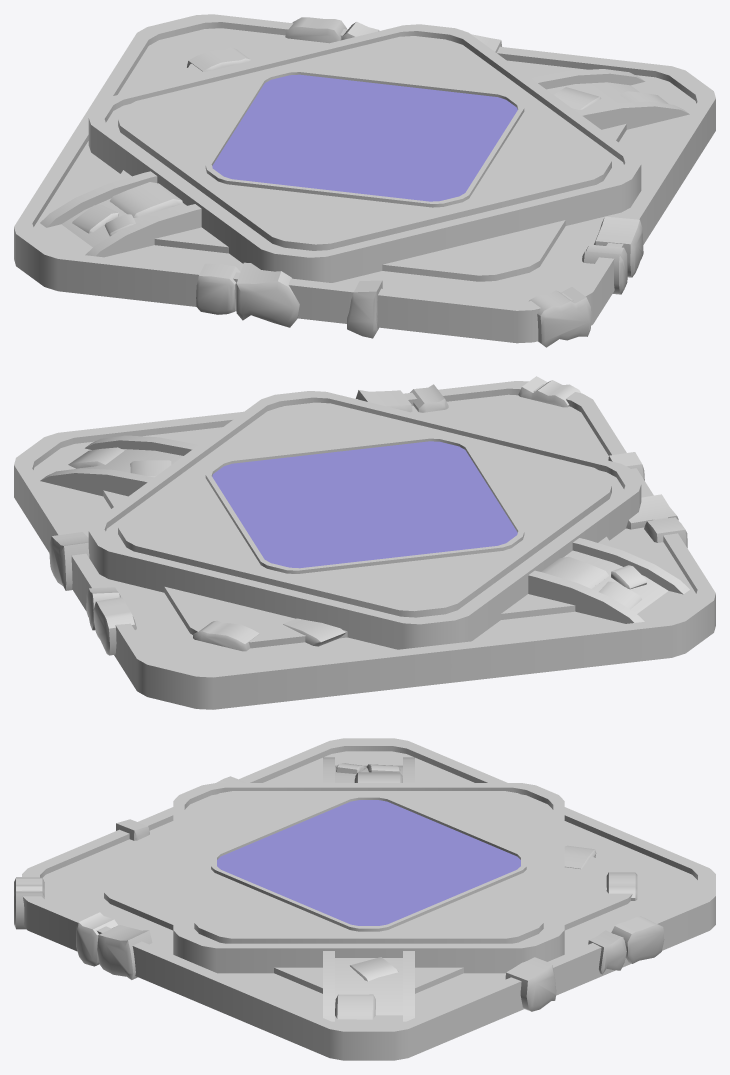
Rendered from GeoRuinPlatform01.fbx.
3 views of the same model, one above another, from view 1: azimuth 30°, elevation 25°; view 2: azimuth 150°, elevation 25°; view 3: azimuth 270°, elevation 25° (orthographic). The views are drawn at different scales.
Visible parts, largest first — view 1: GeoRuinPlatform01_LOD0; view 2: GeoRuinPlatform01_LOD0; view 3: GeoRuinPlatform01_LOD0.
Part boxes in pixels (x1,y1,x2,y2): GeoRuinPlatform01_LOD0: (14,14,715,347); GeoRuinPlatform01_LOD0: (14,376,715,709); GeoRuinPlatform01_LOD0: (14,738,715,1060).
Size of what is drawn, in the model's own units: 650 by 62.56 by 658.
